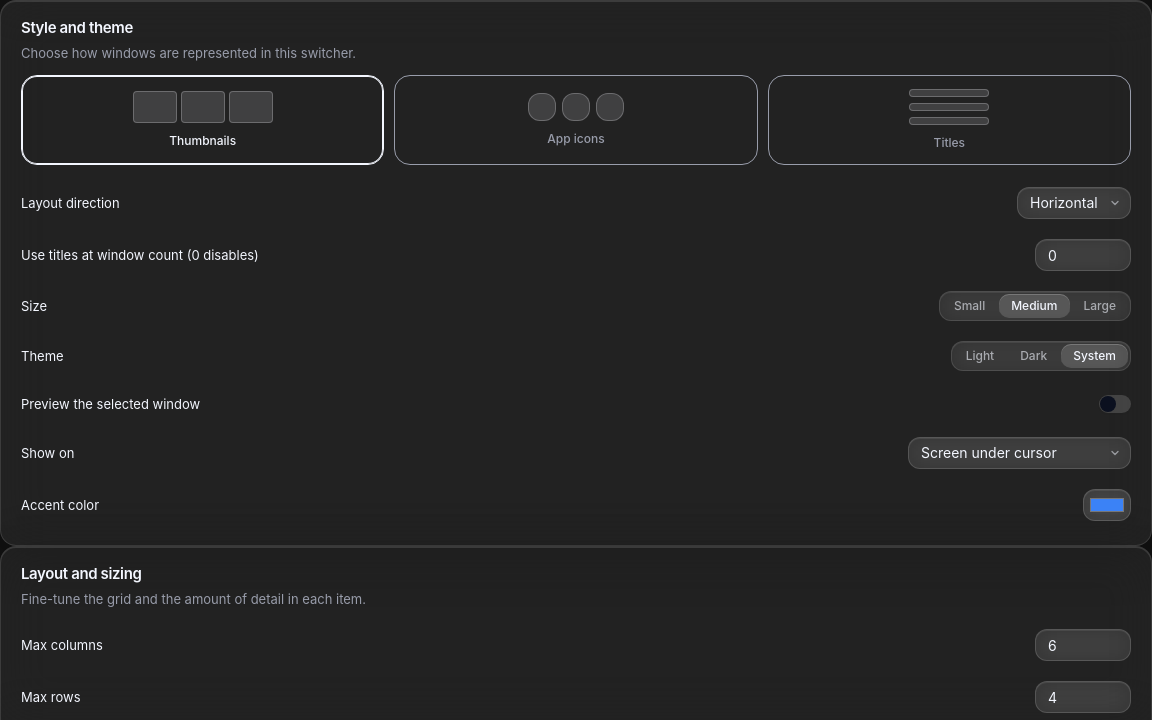
commits Compact threshold once on blur and clamps it to the field bounds
The image size is (1152, 720).
Replace the text in the number field named "Compact threshold" with "8": x=1083, y=255 [1035, 239, 1131, 271]
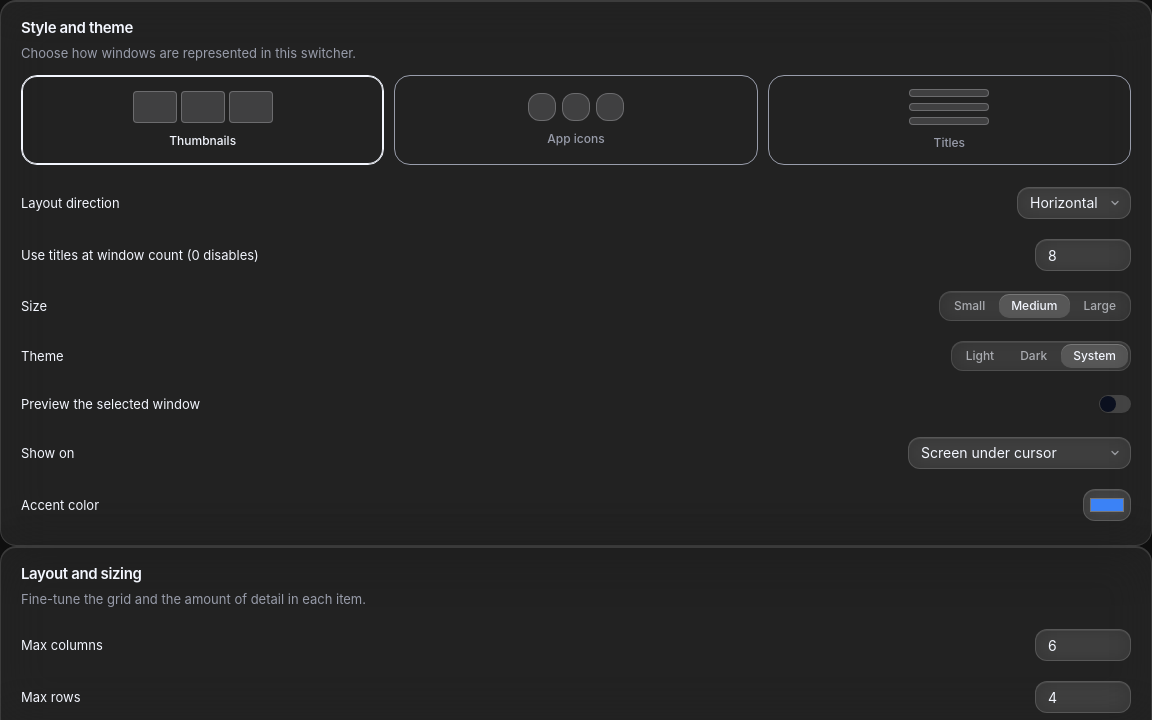
Leave the number field named "Compact threshold", box [1035, 239, 1131, 271]
Replace the text in the number field named "Compact threshold" with "5": x=1083, y=255 [1035, 239, 1131, 271]
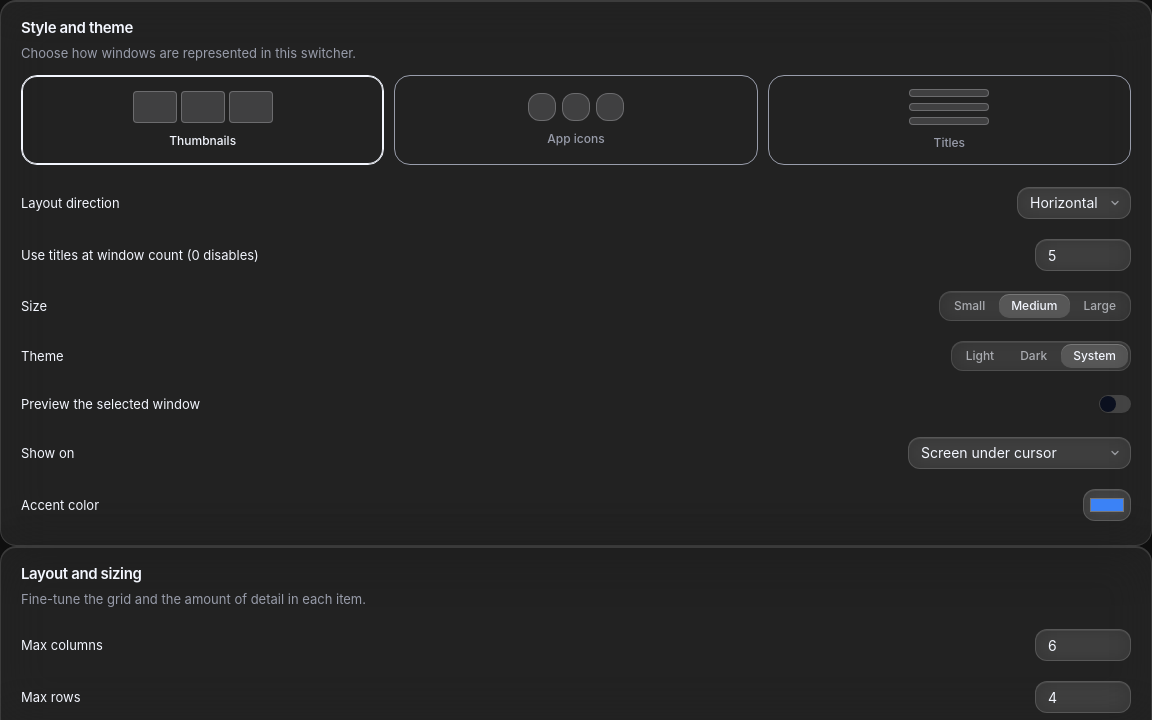
Replace the text in the number field named "Compact threshold" with "50": x=1083, y=255 [1035, 239, 1131, 271]
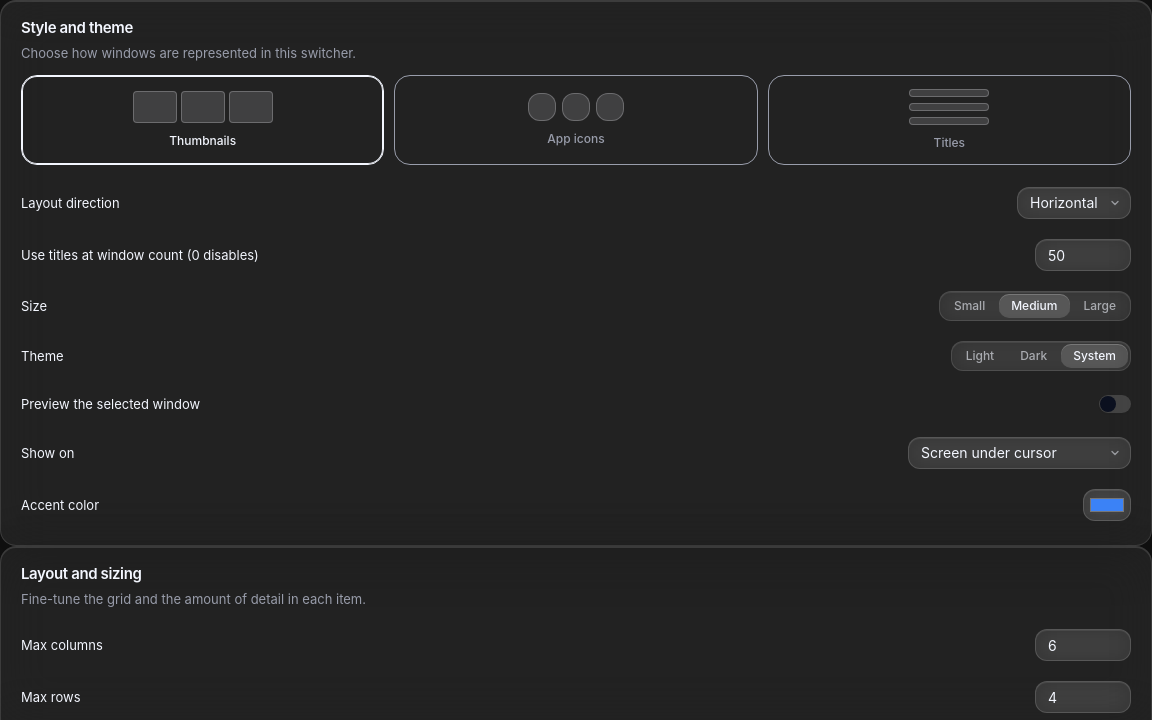
Replace the text in the number field named "Compact threshold" with "500": x=1083, y=255 [1035, 239, 1131, 271]
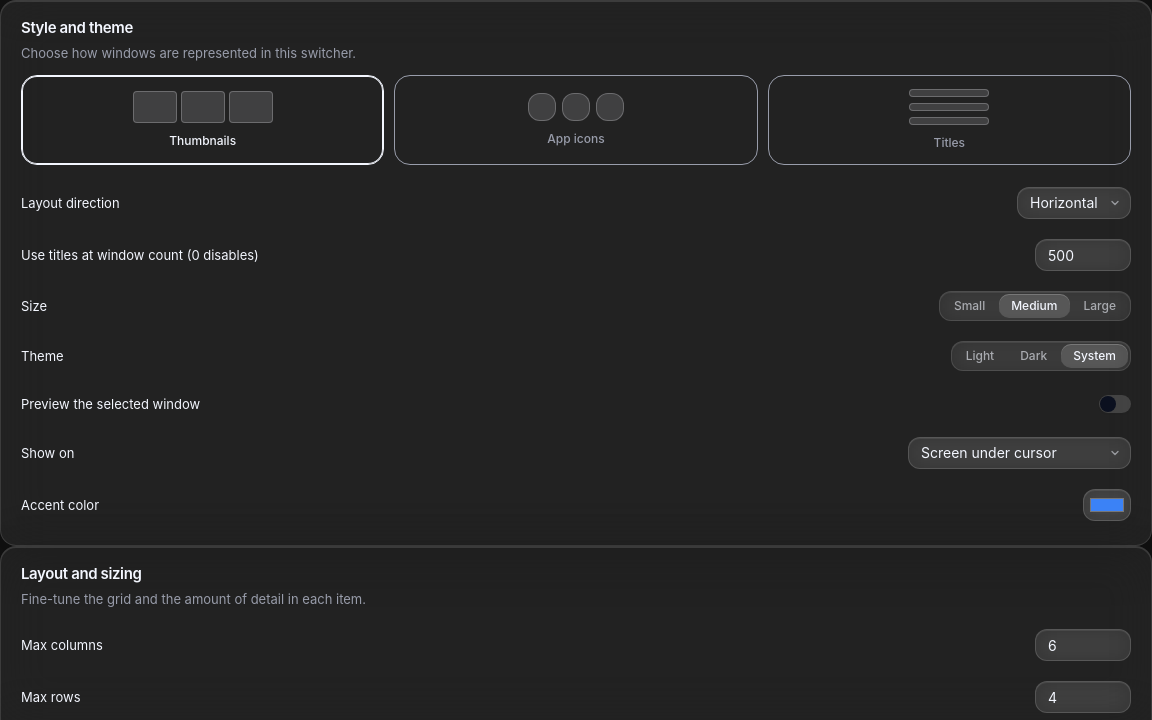
Replace the text in the number field named "Compact threshold" with "5000": x=1083, y=255 [1035, 239, 1131, 271]
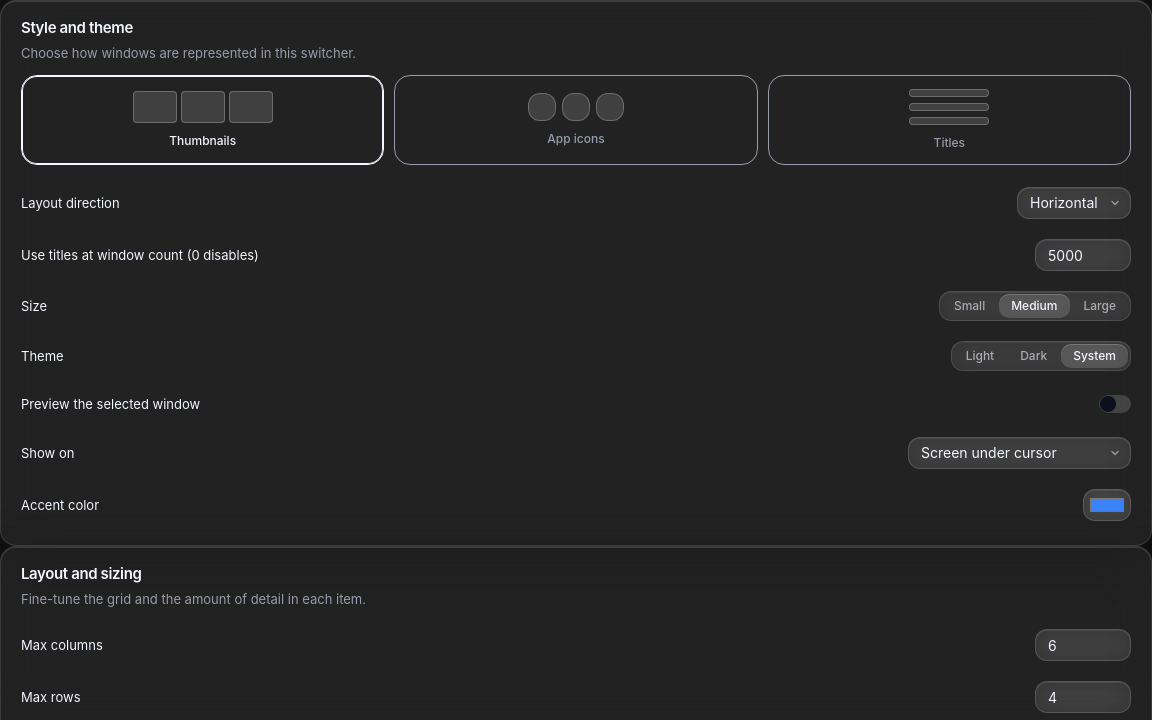
Leave the number field named "Compact threshold", box [1035, 239, 1131, 271]
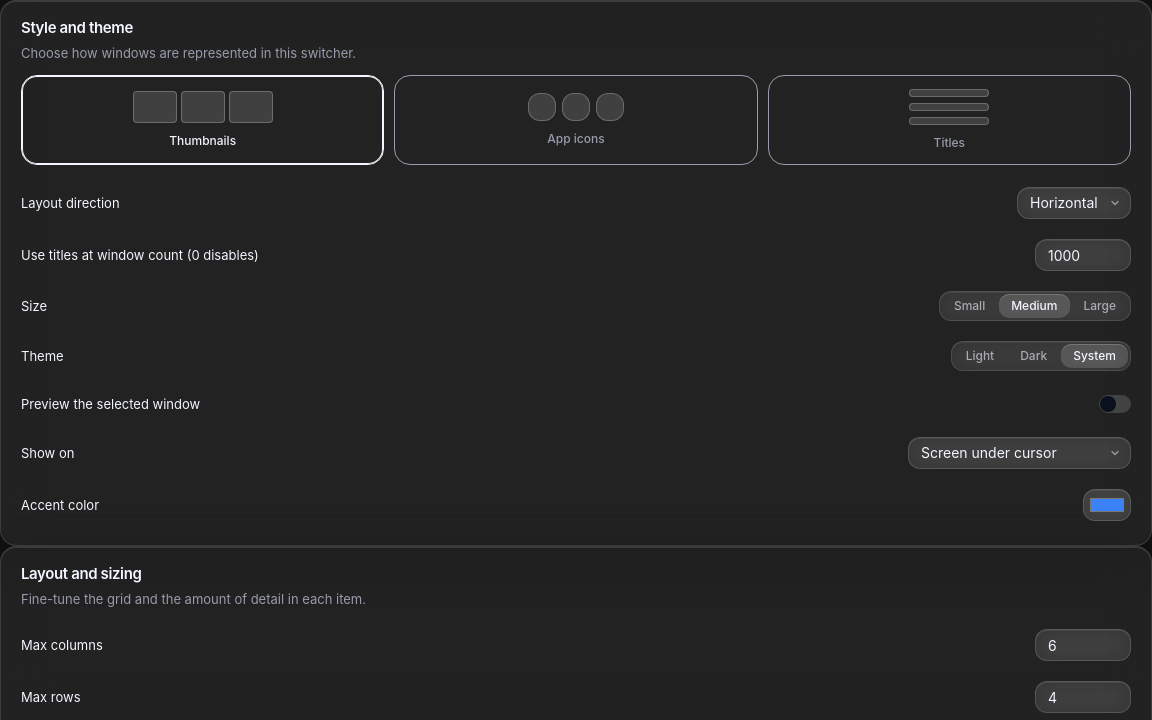
Result: the number field named "Compact threshold" holds "1000" at [1035, 239, 1131, 271]
